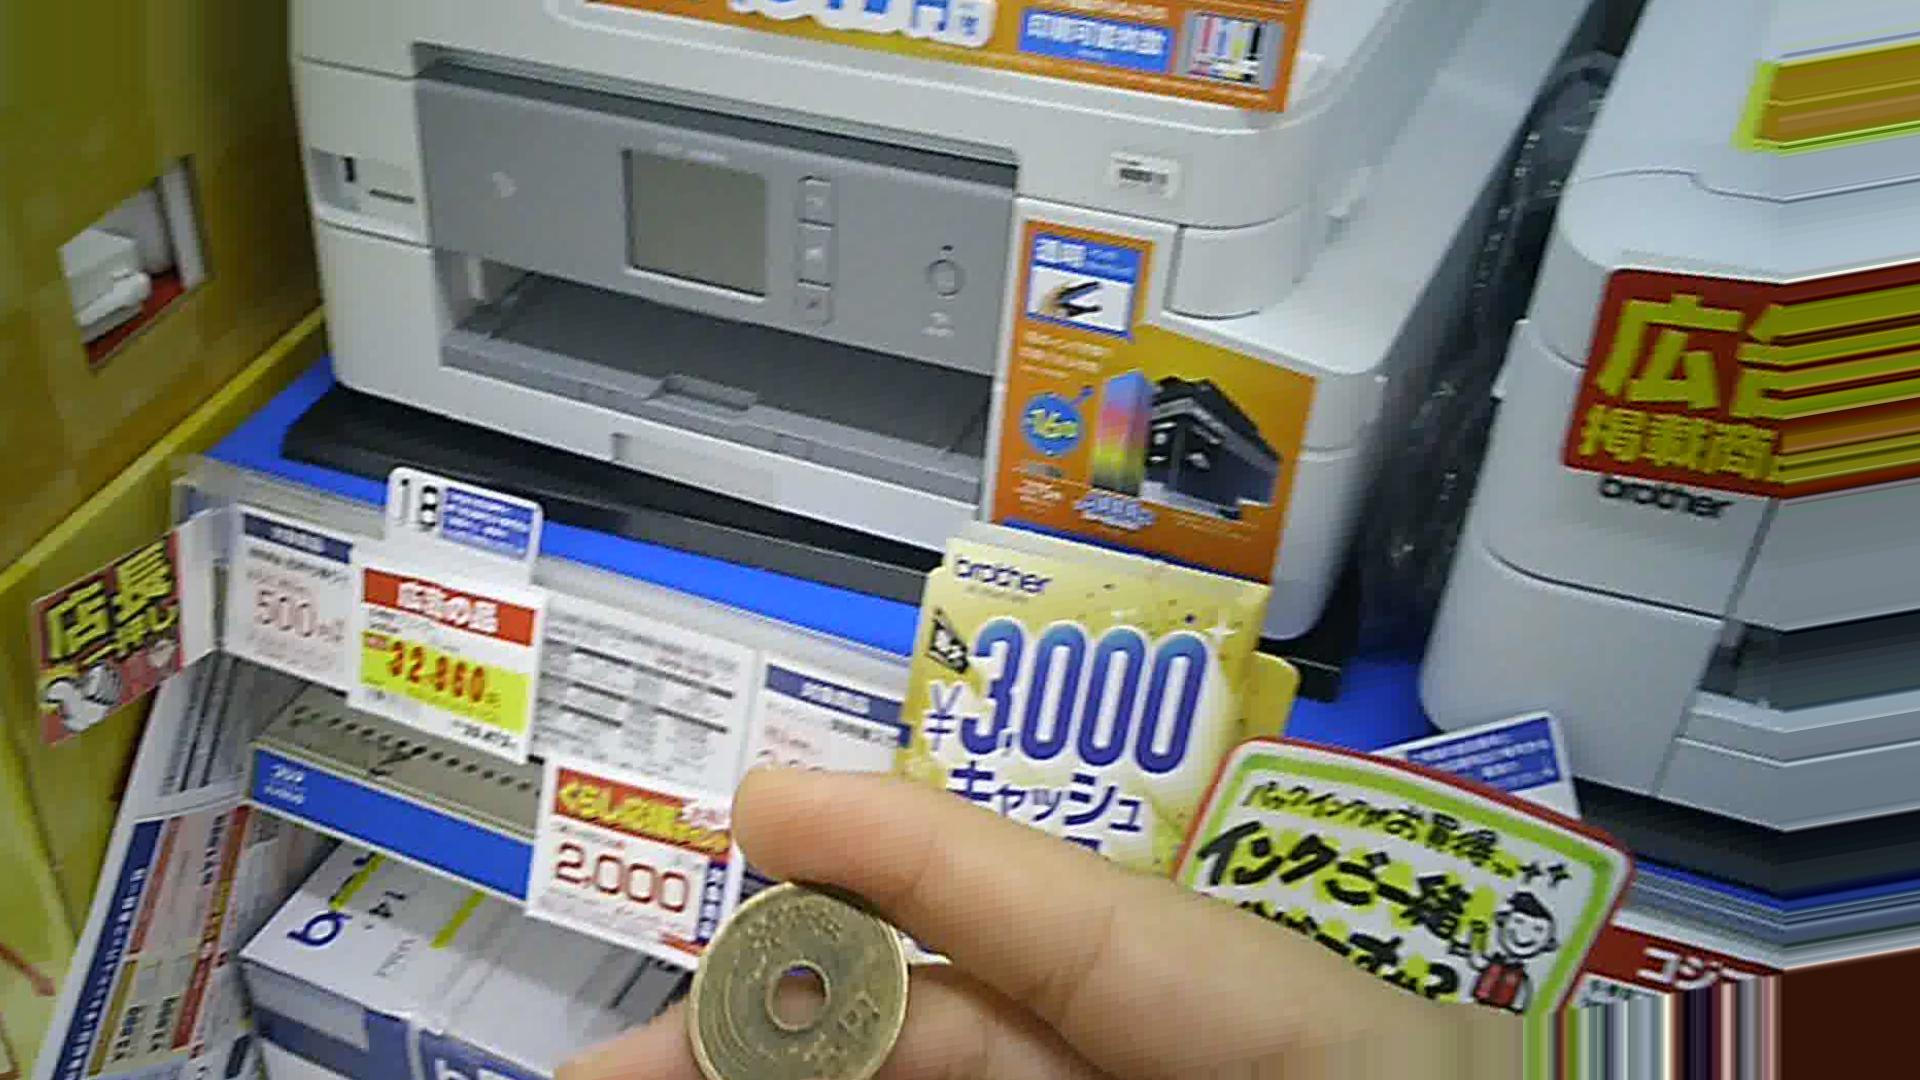5 Yen: (684, 872, 920, 1079)
